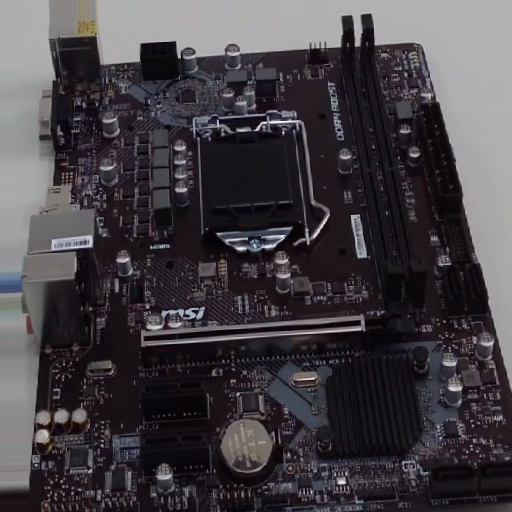CPU: (193, 110, 307, 253)
GPU: (143, 303, 415, 366)
MOTHERBOARD: (26, 44, 510, 509)
RAM: (342, 14, 428, 306)
